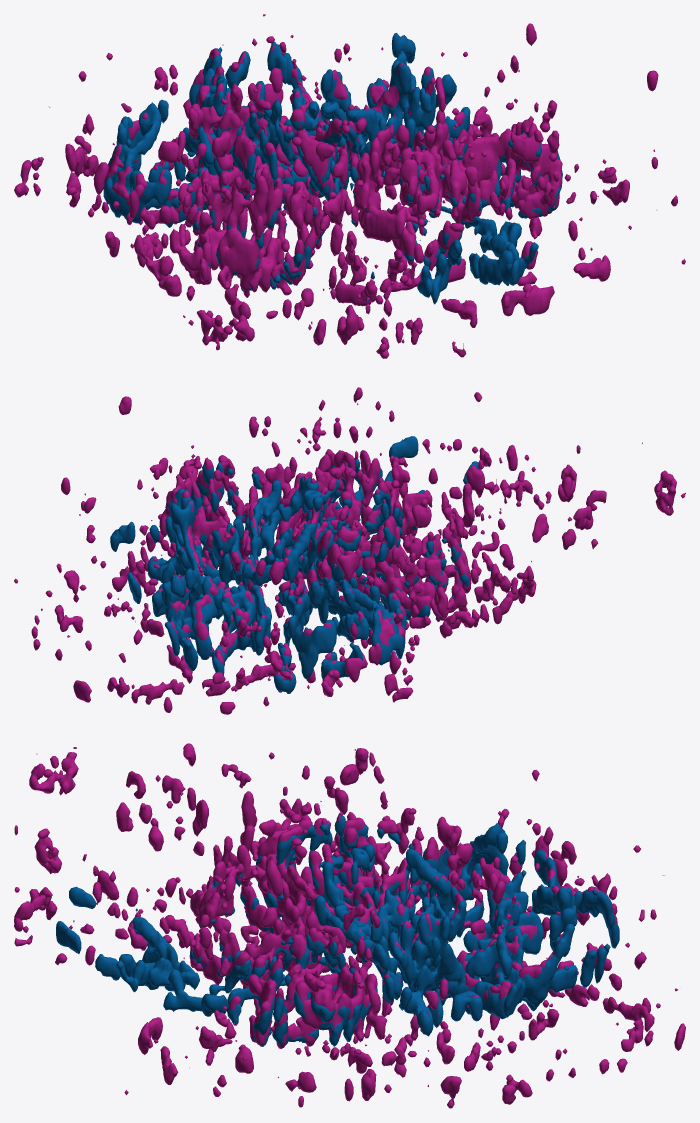
3 views of the same model, one above another, from view 1: azimuth 30°, elevation 25°; view 2: azimuth 150°, elevation 25°; view 3: azimuth 270°, elevation 25° (orthographic). The views are drawn at different scales.
Visible parts, largest first — view 1: 300_24HR_tmre, 300_24_mito; view 2: 300_24HR_tmre, 300_24_mito; view 3: 300_24HR_tmre, 300_24_mito.
Boxes of the visible parts, x1,y1,x2,y2 form: 300_24HR_tmre: (14, 14, 685, 358); 300_24_mito: (103, 33, 562, 304); 300_24HR_tmre: (14, 387, 685, 714); 300_24_mito: (110, 436, 491, 693); 300_24HR_tmre: (14, 743, 685, 1108); 300_24_mito: (56, 815, 619, 1046).
Size of the model in its own units: 38.43 by 10.07 by 38.55.
